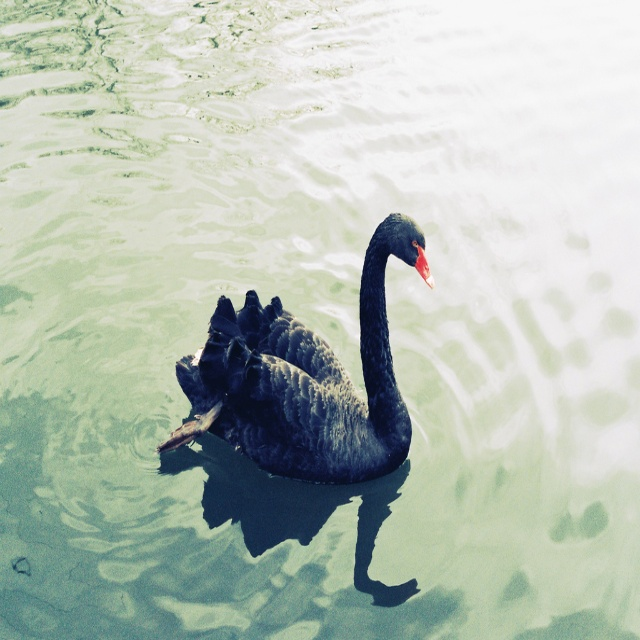Swan: (155, 213, 436, 485)
